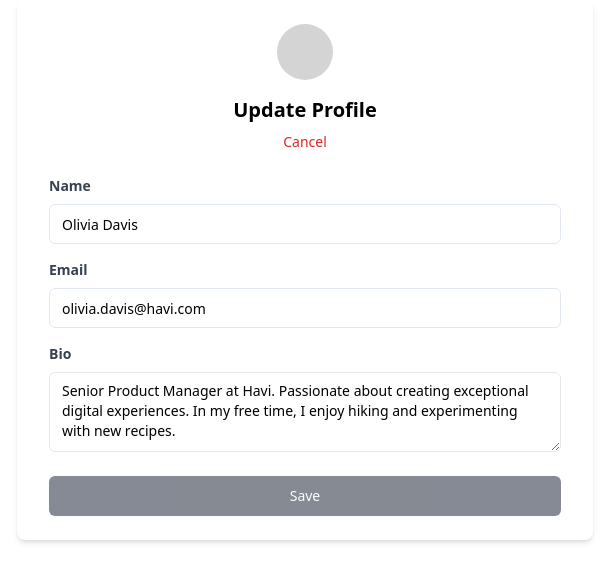
Test case: EditProfile › should allow to update user profile
Type "BioUpdate" into the text box labelled "Bio" at (305, 412), box 49,372 -> 561,452
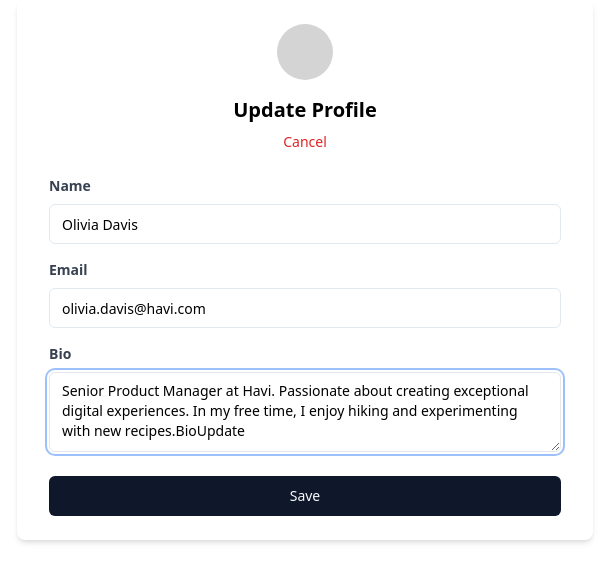
expect the button "Save" is enabled: met
Click the button "Save" at (305, 496), box 49,476 -> 561,516
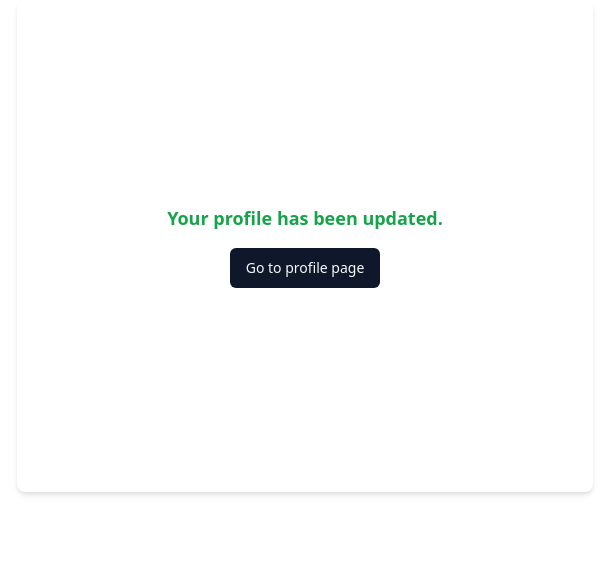
expect the heading "Your profile has been updated." is shown: met, box 167,204 -> 443,232
expect the button "Go to profile page" is shown: met, box 230,248 -> 380,288
